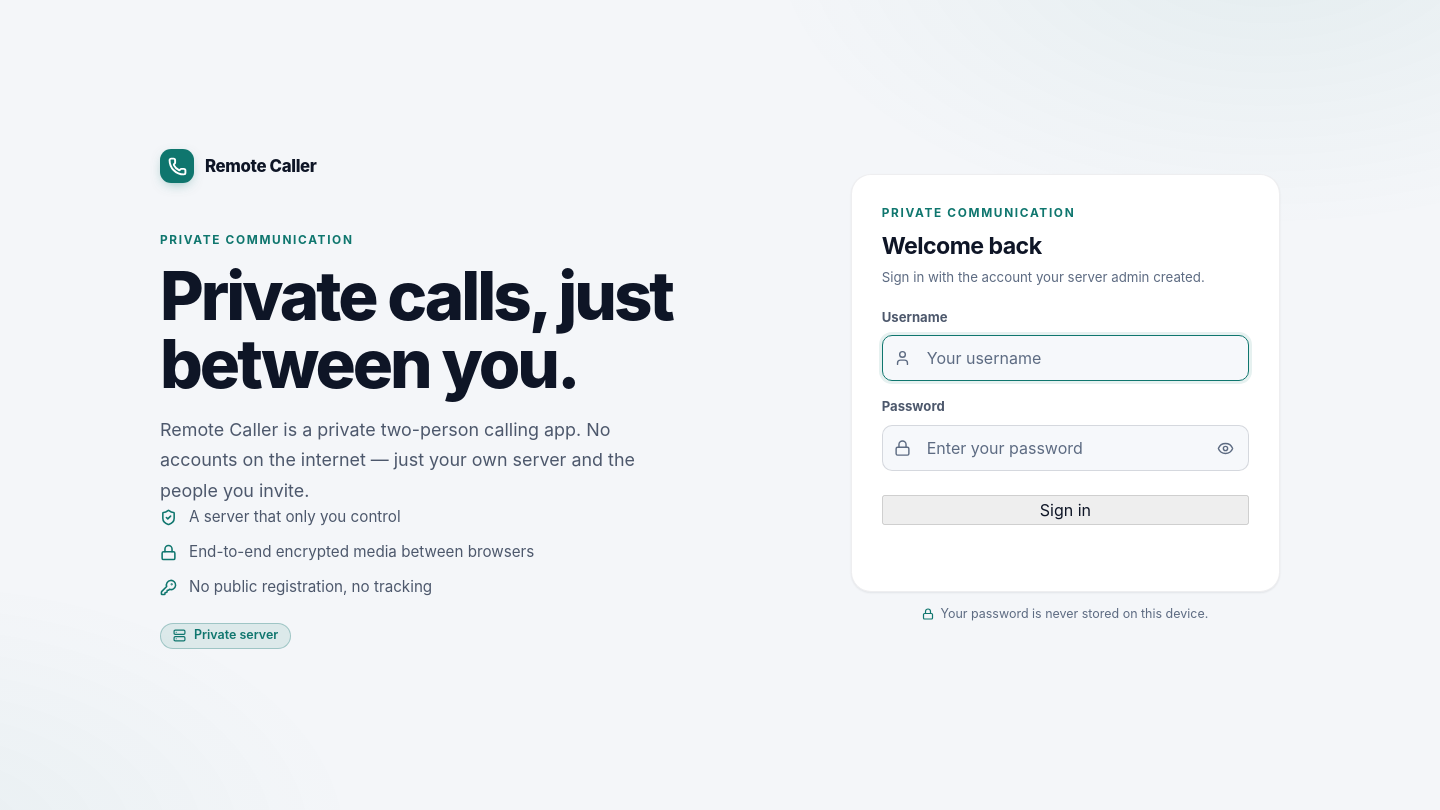
Scenario: LoginView › keeps password fields private and offers a reveal toggle
This screenshot has width=1440, height=810.
Step 1. Type "s3cret" into the password field labelled "Password" → (1065, 448), box [882,425,1249,471]
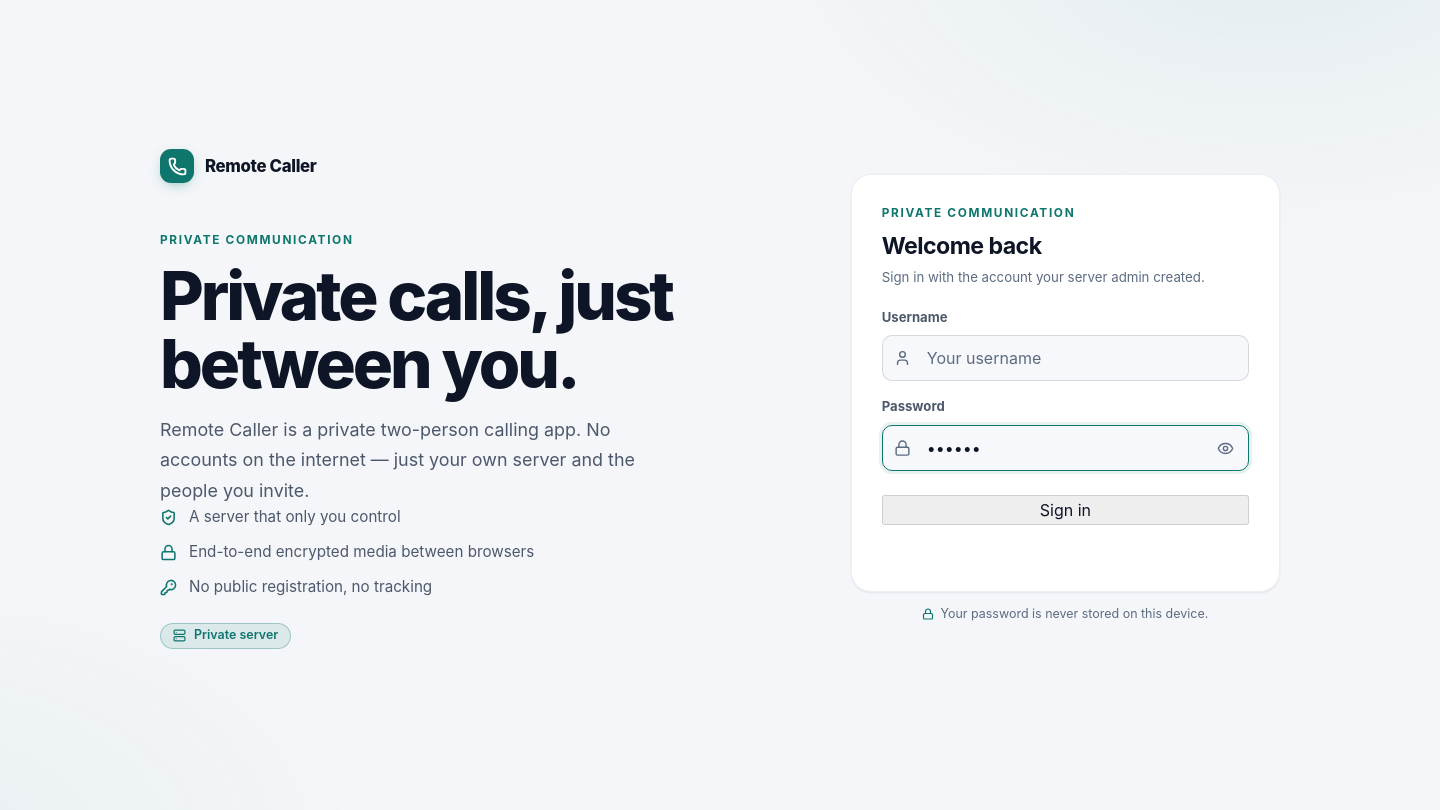
Step 2. Click the button named "Show password" → (1225, 448), box [1207,430,1243,466]
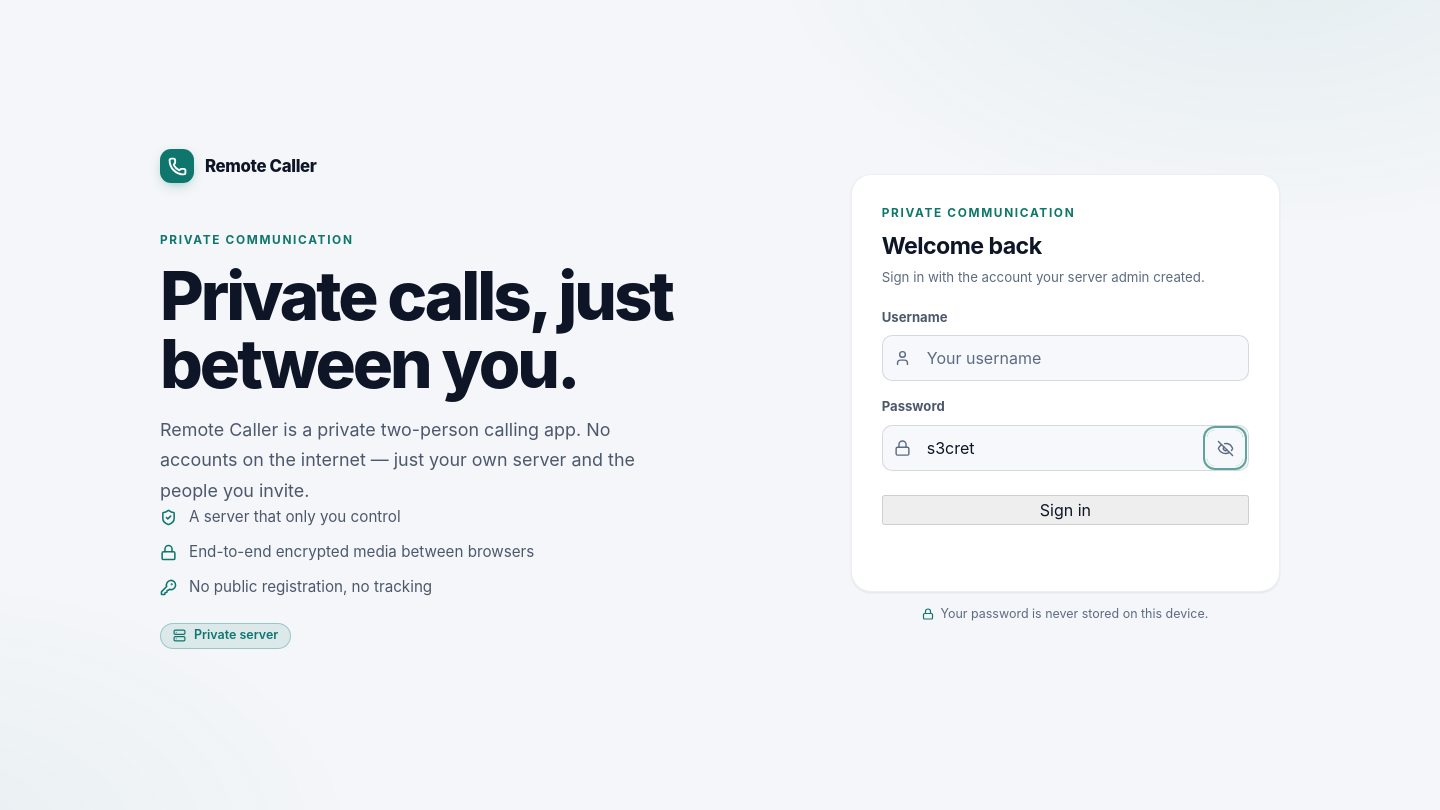
Result: the field labelled "Password" shows its text at [882,425,1249,471]
Step 3. Click the button named "Hide password" → (1225, 448), box [1207,430,1243,466]
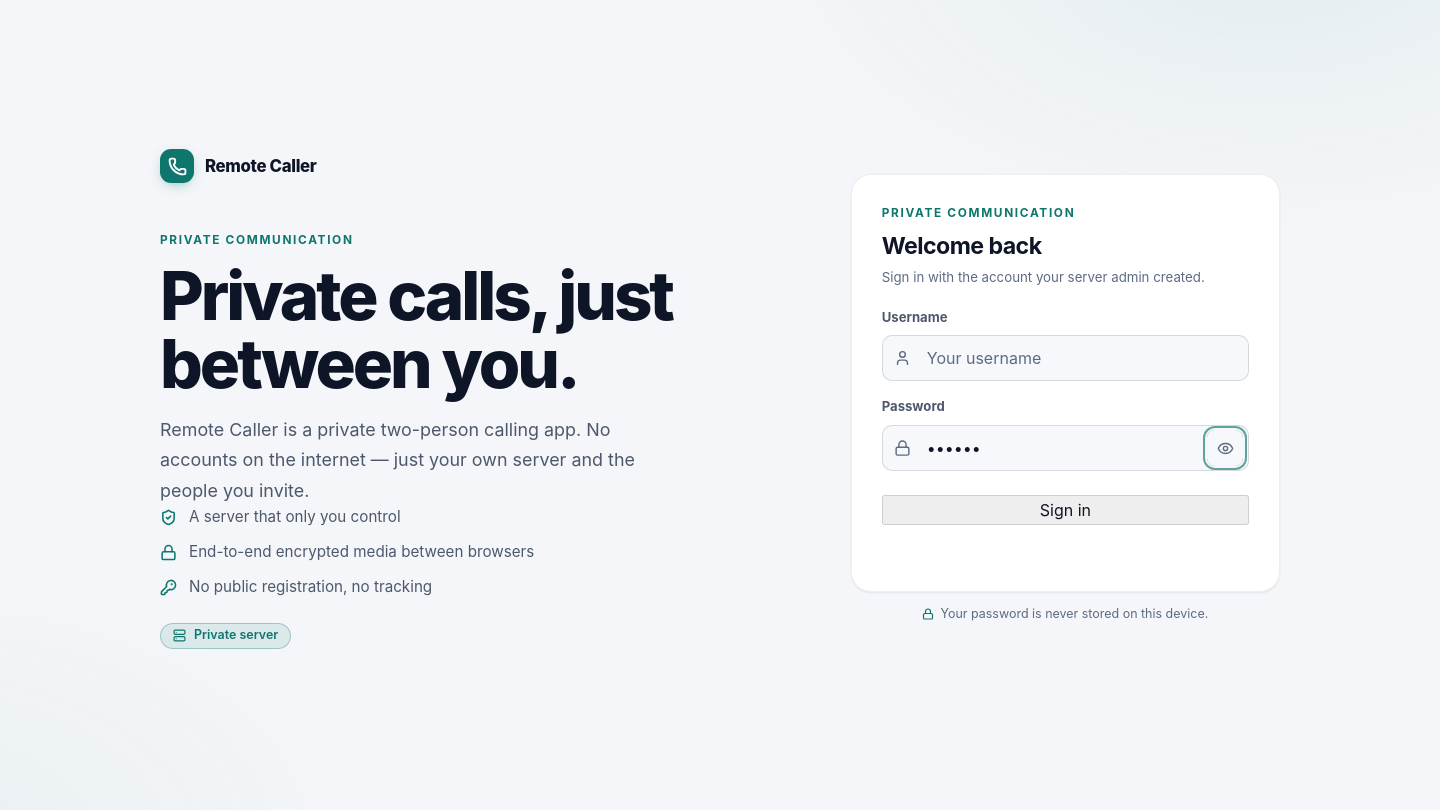
Result: the password field labelled "Password" hides its text at [882,425,1249,471]
